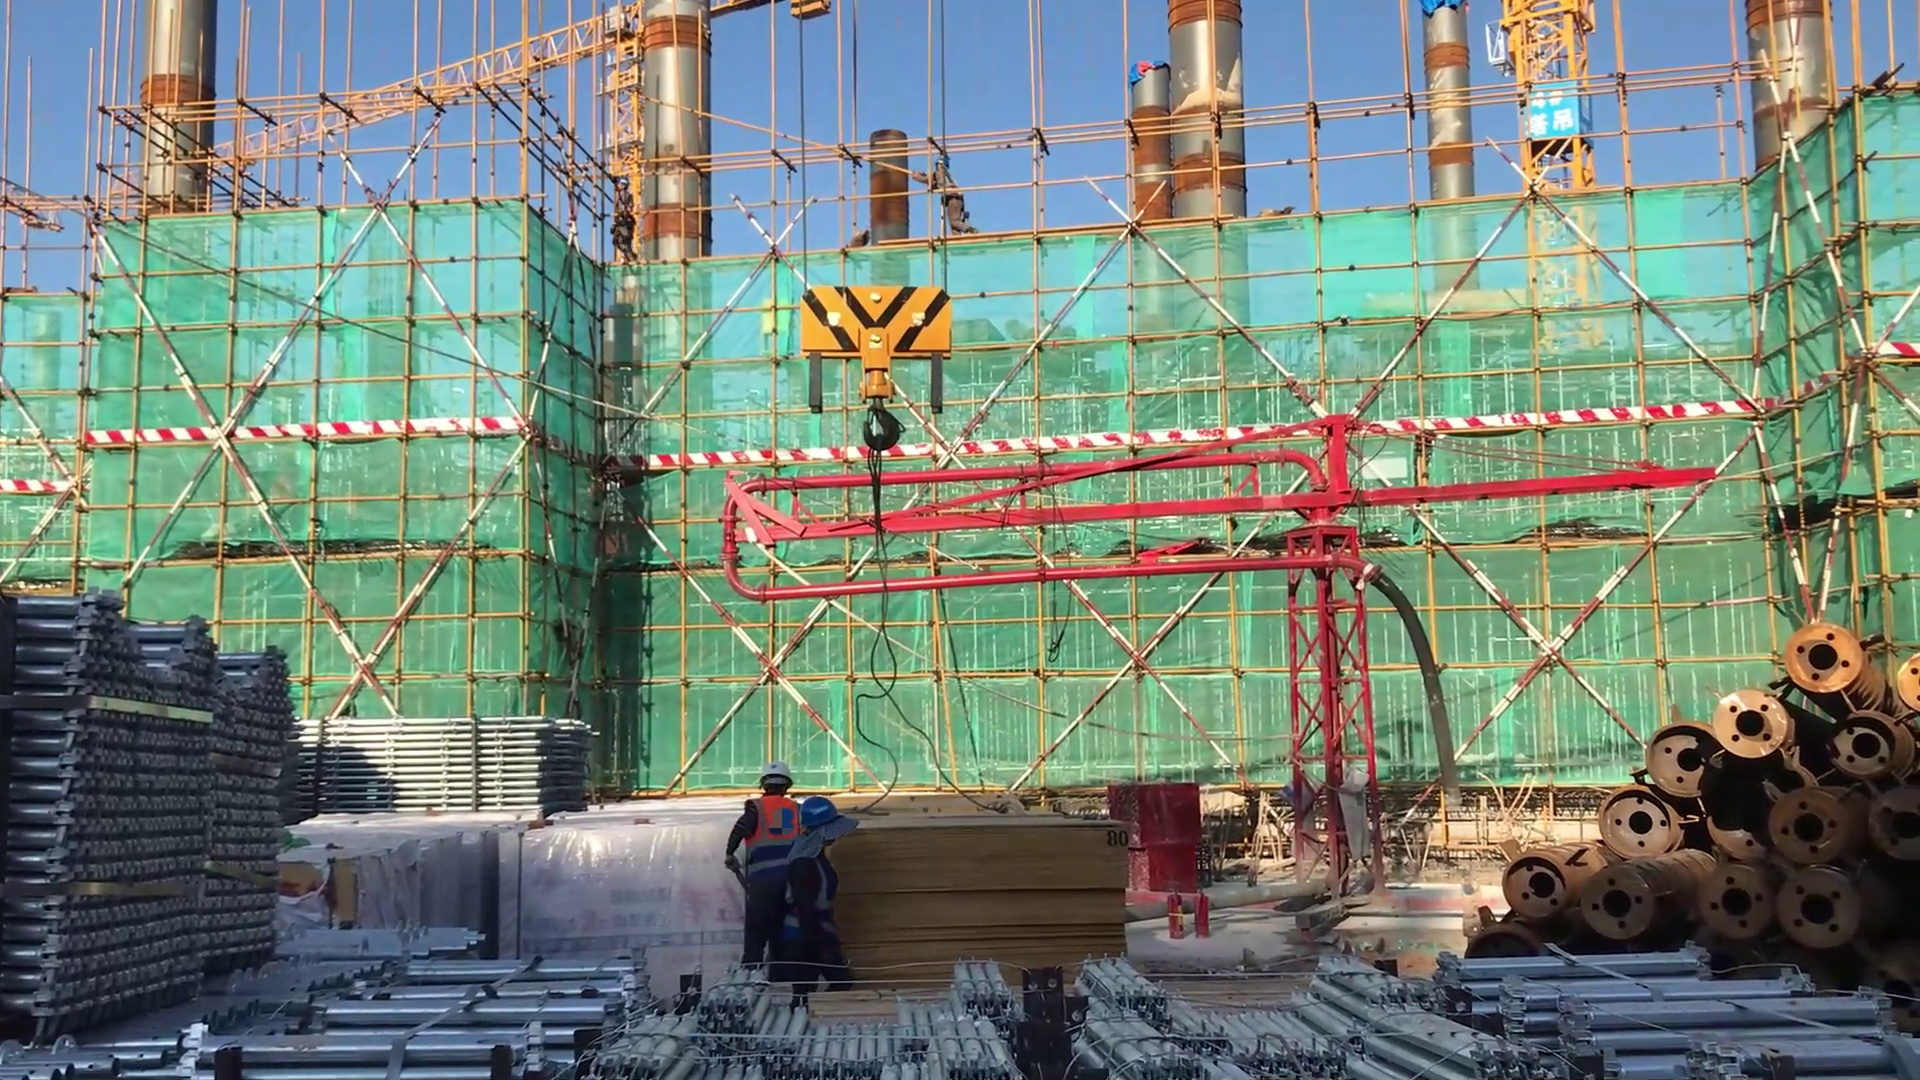board: (823, 816, 1131, 999)
helmet: (797, 796, 855, 851), (761, 762, 795, 802), (933, 147, 961, 173)
hook: (806, 270, 972, 513)
person: (784, 782, 871, 1006), (726, 760, 800, 974), (912, 143, 981, 250)
scaffold: (1, 605, 313, 1035), (1443, 932, 1920, 1075), (3, 926, 441, 1080), (1063, 952, 1538, 1080), (641, 952, 1081, 1080), (329, 937, 676, 1074), (287, 707, 618, 820)
slogan: (1525, 76, 1602, 167)
vest: (787, 844, 842, 948), (743, 792, 799, 886), (934, 169, 966, 206)
